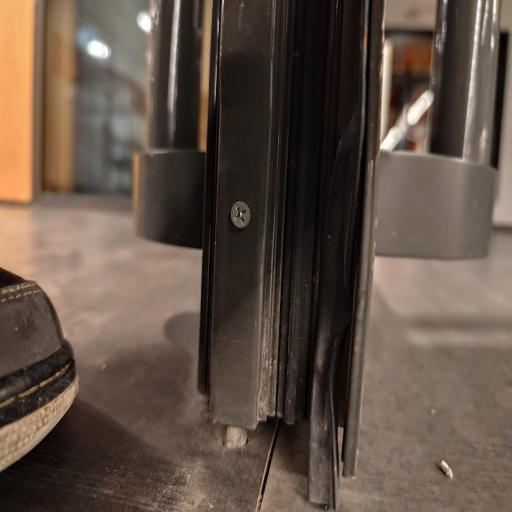Phillips: (230, 198, 254, 232)
